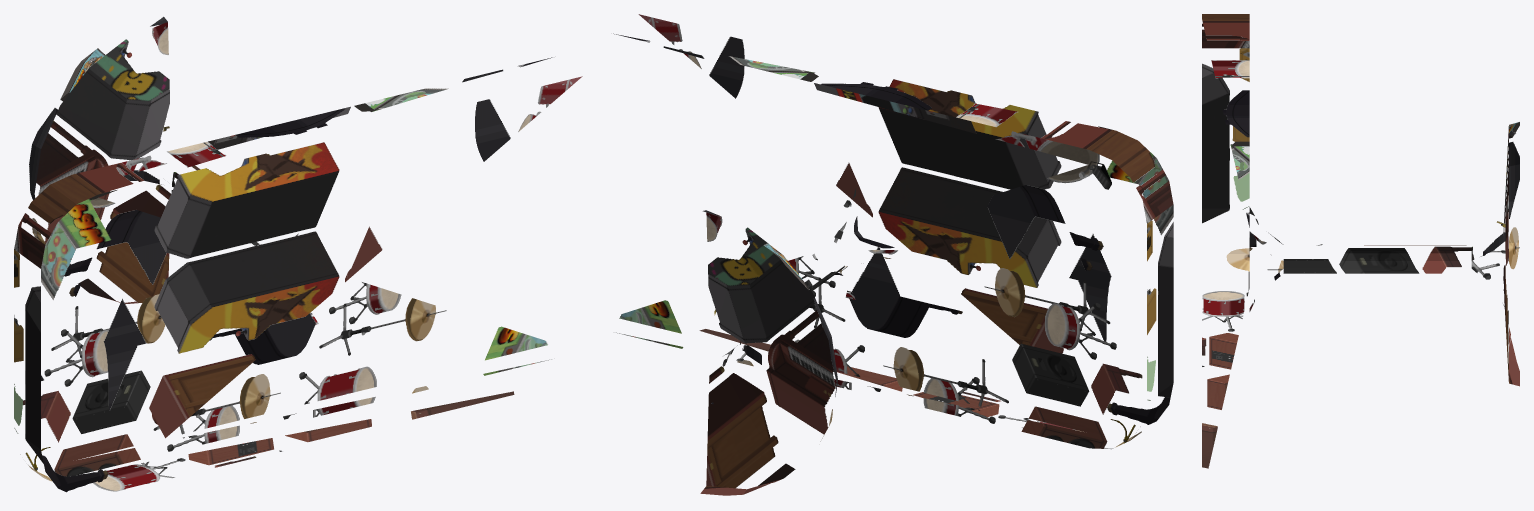
3 views of the same model, side by side, from view 1: azimuth 30°, elevation 25°; view 2: azimuth 150°, elevation 25°; view 3: azimuth 270°, elevation 25° (orthographic). The views are drawn at different scales.
Bounding box in the file's own units: 1.75 × 0.93 × 1.
